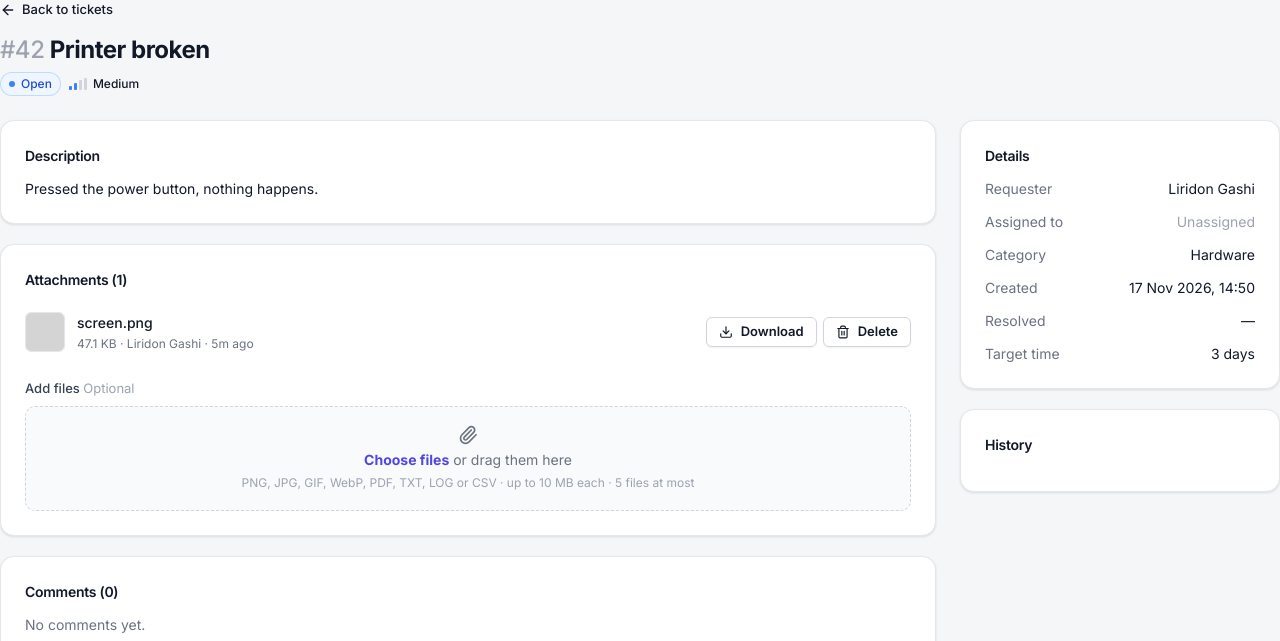
Scenario: Ticket attachments › Delete asks first: Cancel keeps the file, Delete removes it and updates the list
Expected: the heading "Attachments (1)" is shown, [25,270,127,288]
Click the button with aria-label "Delete screen.png".
click(867, 332)  # box [823,317,911,347]
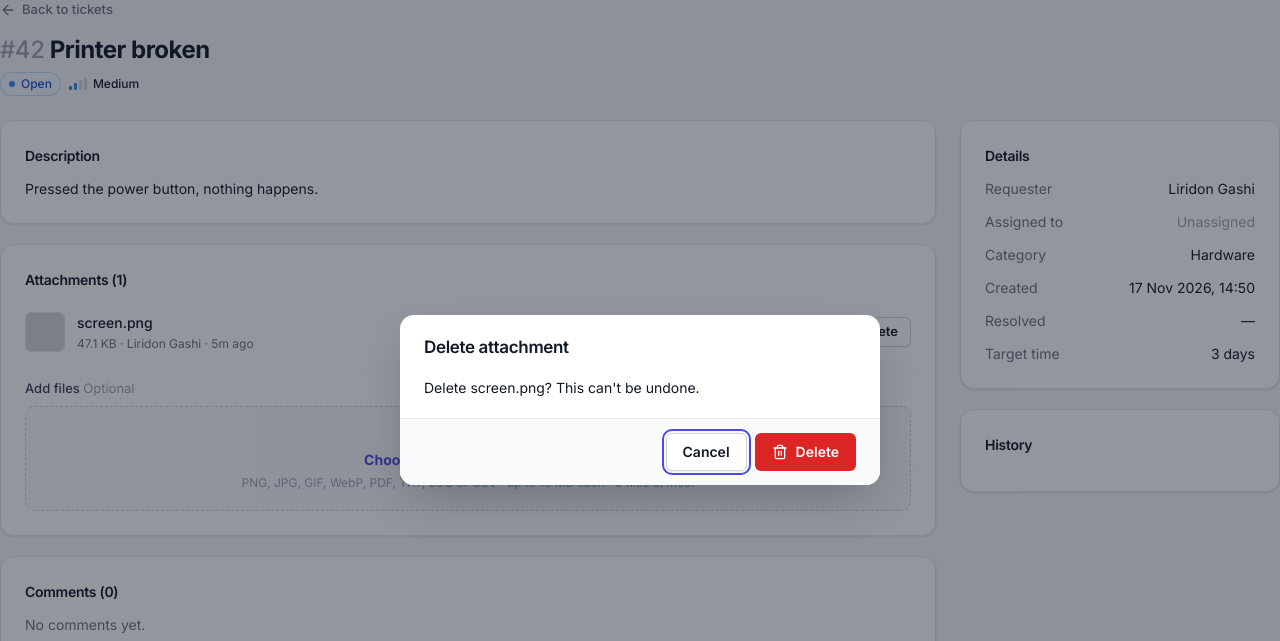
Now the dialog "Delete attachment" shows "Delete screen.png? This can't be undone.", box [400,315,880,485]
Click the button "Cancel".
click(706, 452)  # box [666,433,746,471]
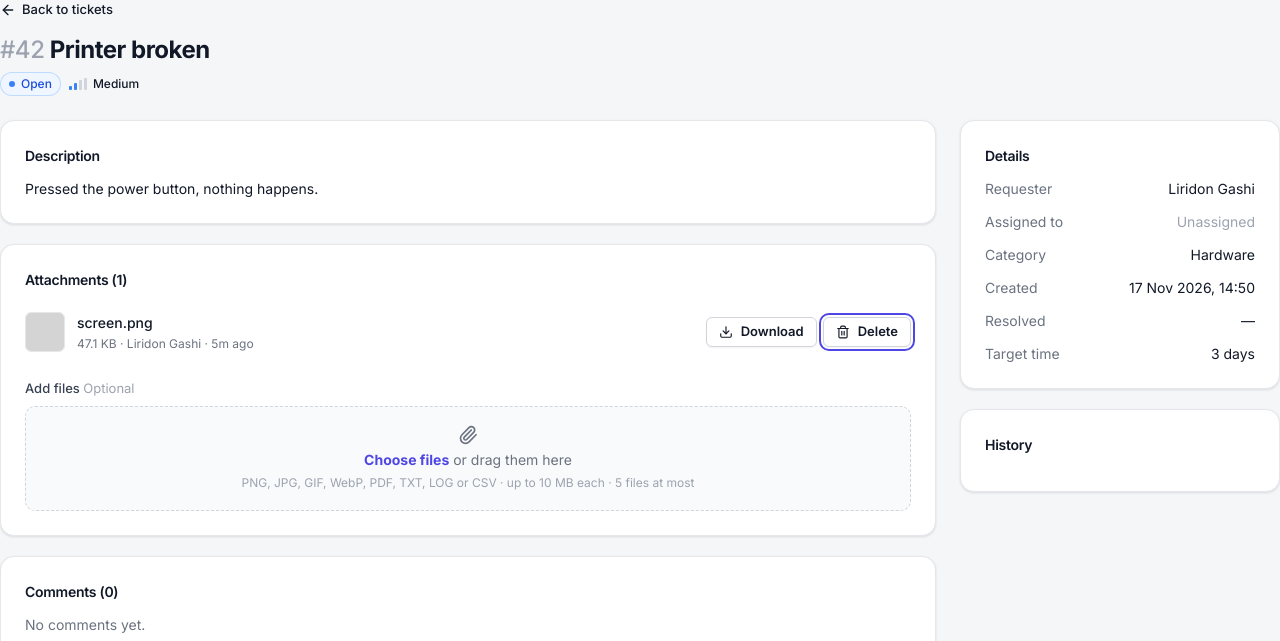
Click the button with aria-label "Delete screen.png".
click(867, 332)  # box [823,317,911,347]
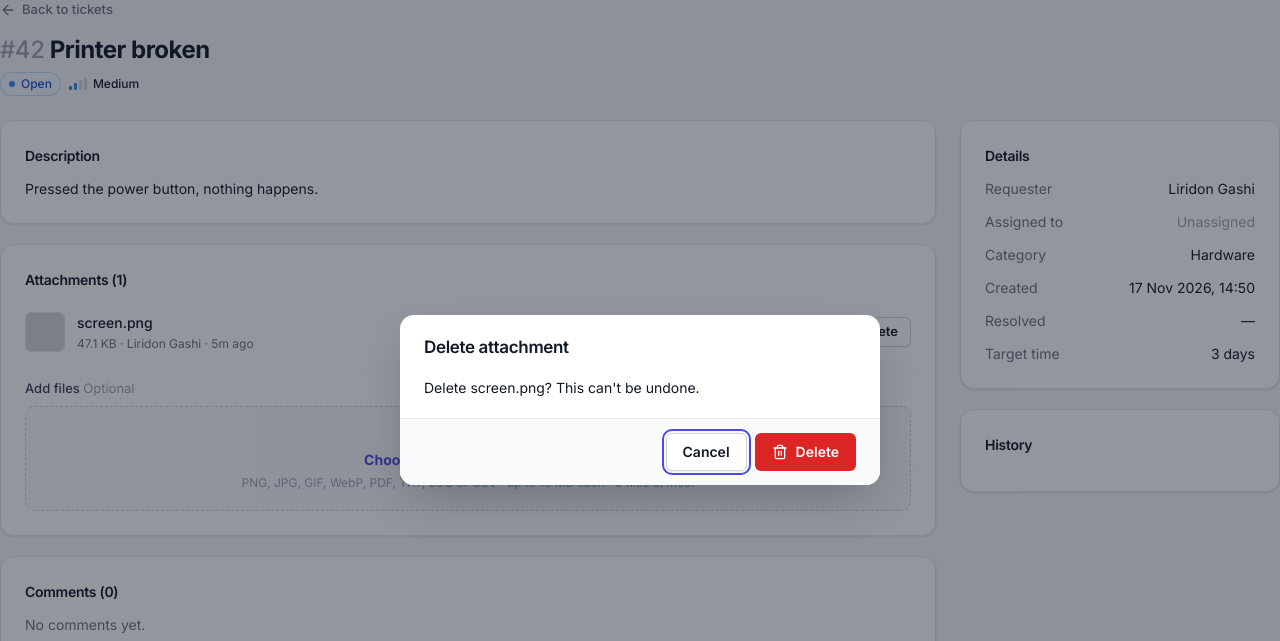
Click the button "Delete".
click(805, 452)  # box [755,433,856,471]
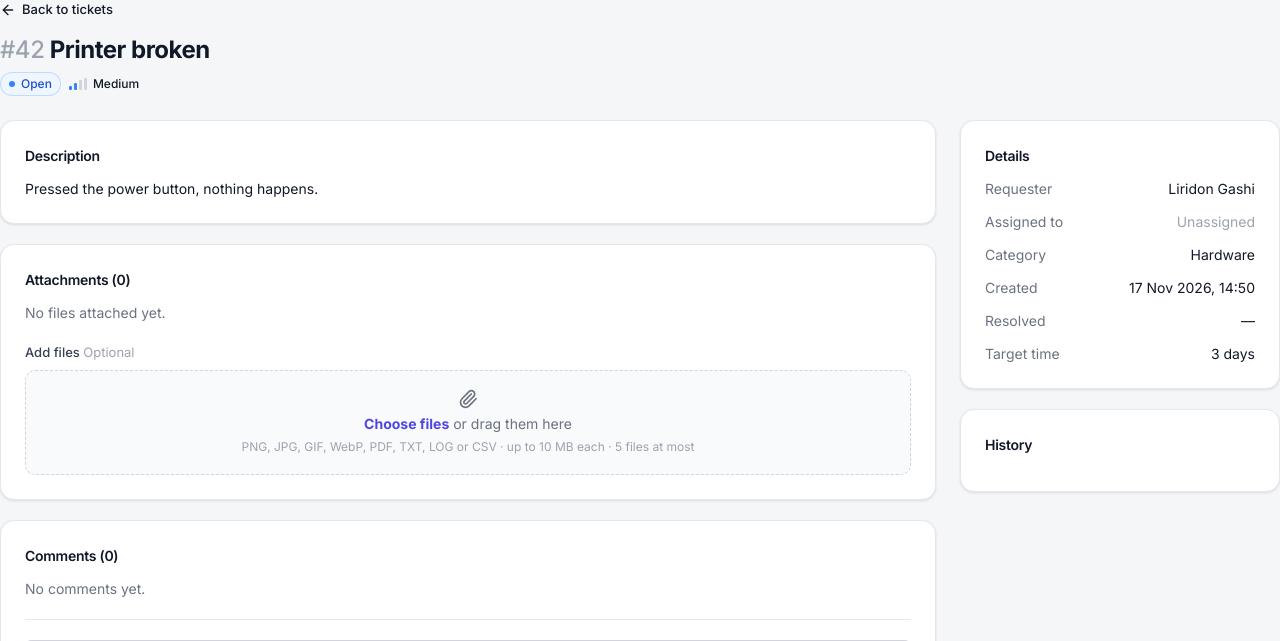
Now the heading "Attachments (0)" is shown, box [25,270,130,288]
Now the dialog is gone
